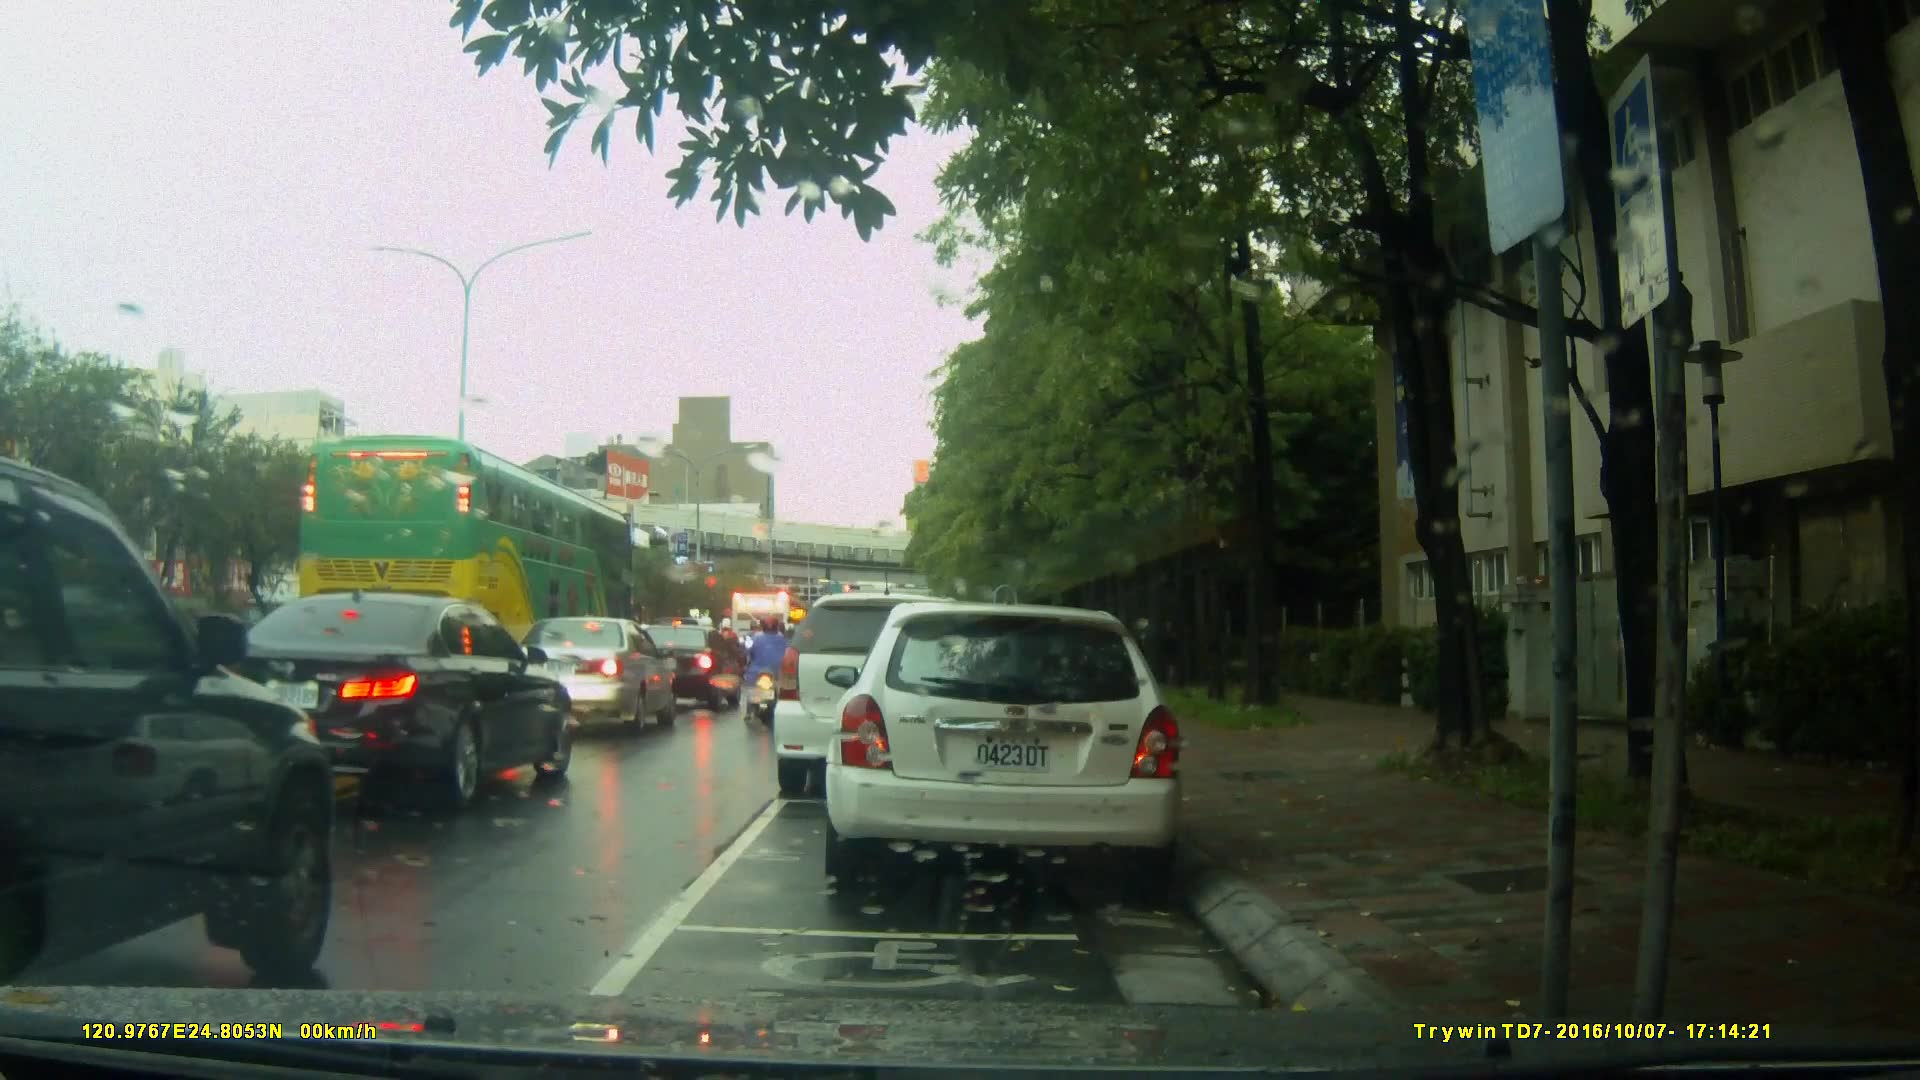rider: (740, 613, 794, 721)
vehicle: (1, 463, 338, 989), (831, 592, 1196, 897), (187, 590, 580, 815), (293, 433, 643, 658), (784, 604, 999, 802), (499, 614, 677, 740), (631, 625, 742, 715)
